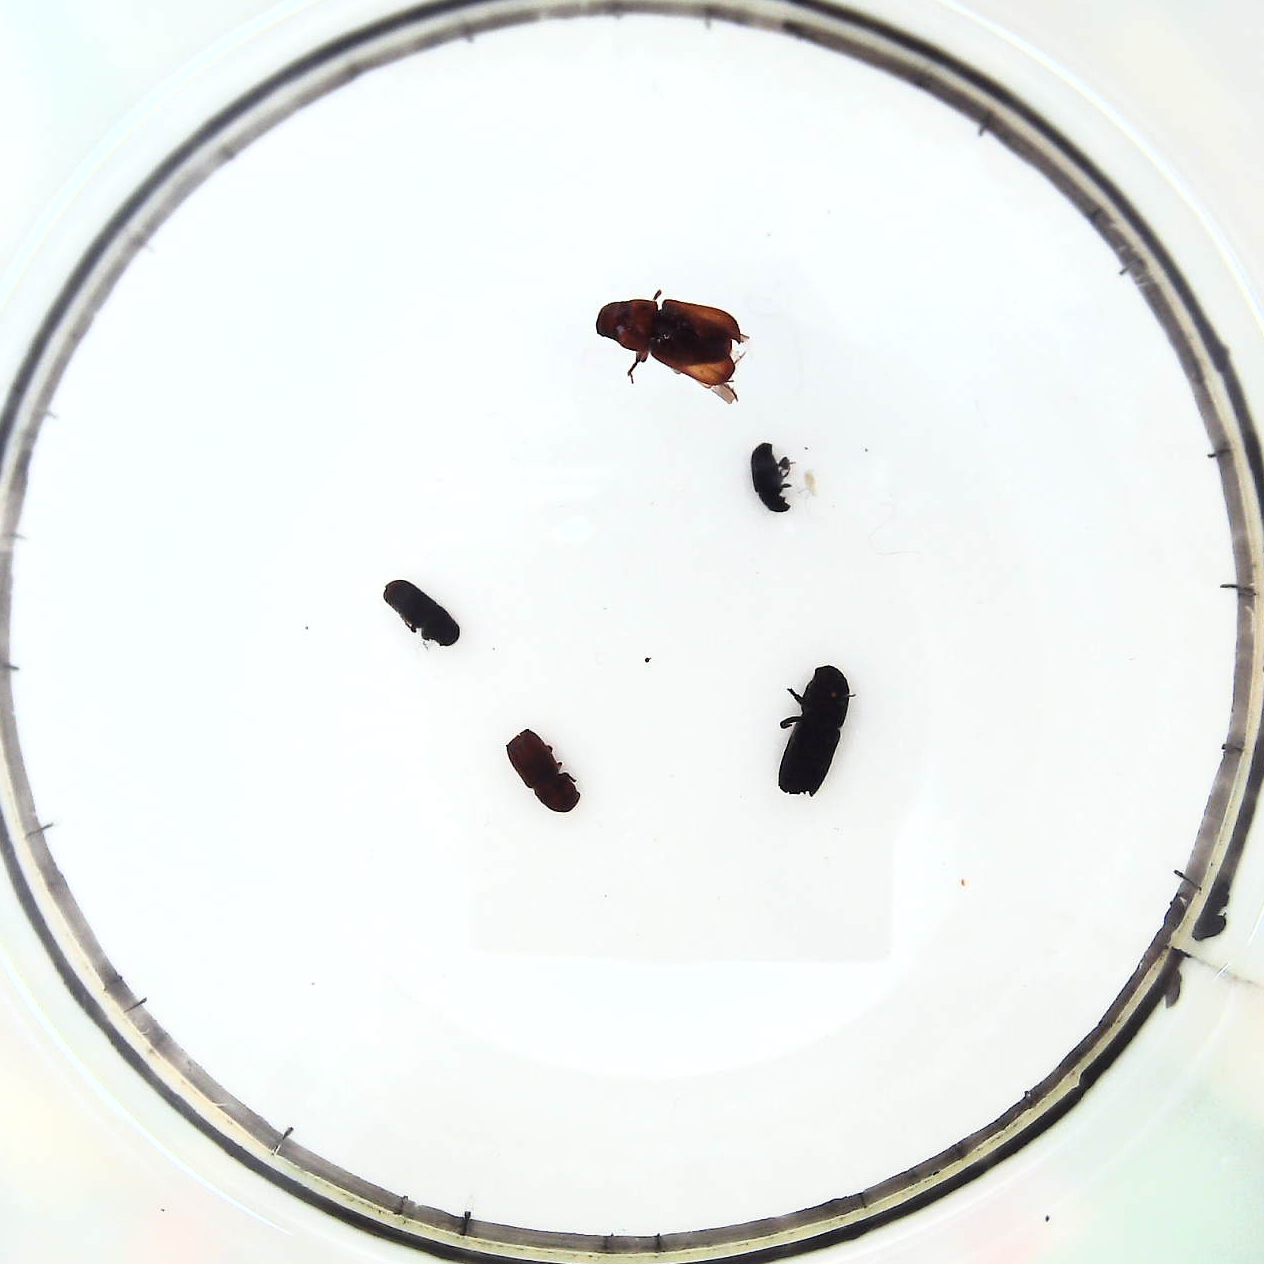Boerner: (778, 666, 854, 798)
Leconte: (598, 291, 747, 403)
Linnaeus: (504, 729, 583, 817)
armandi: (381, 576, 462, 649)
coleoptera: (754, 447, 794, 512)
